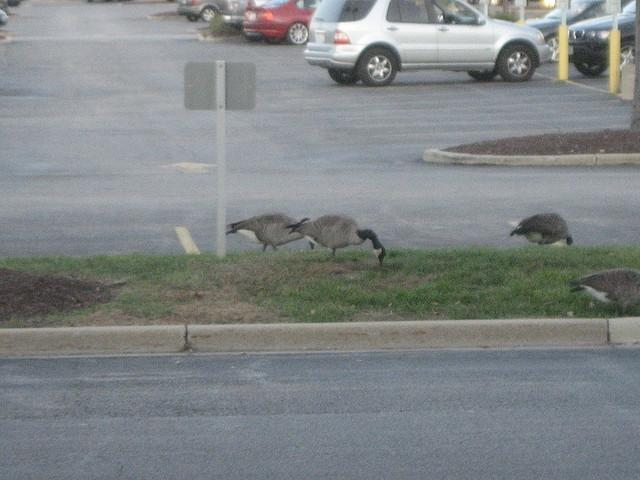car: (300, 0, 554, 86), (569, 0, 640, 78), (526, 0, 610, 63), (241, 1, 318, 44), (178, 0, 248, 22)
